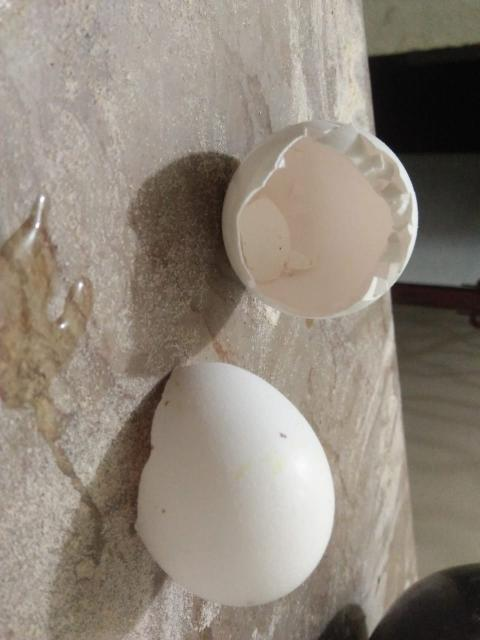Roto: (133, 360, 336, 608), (220, 122, 406, 318)
